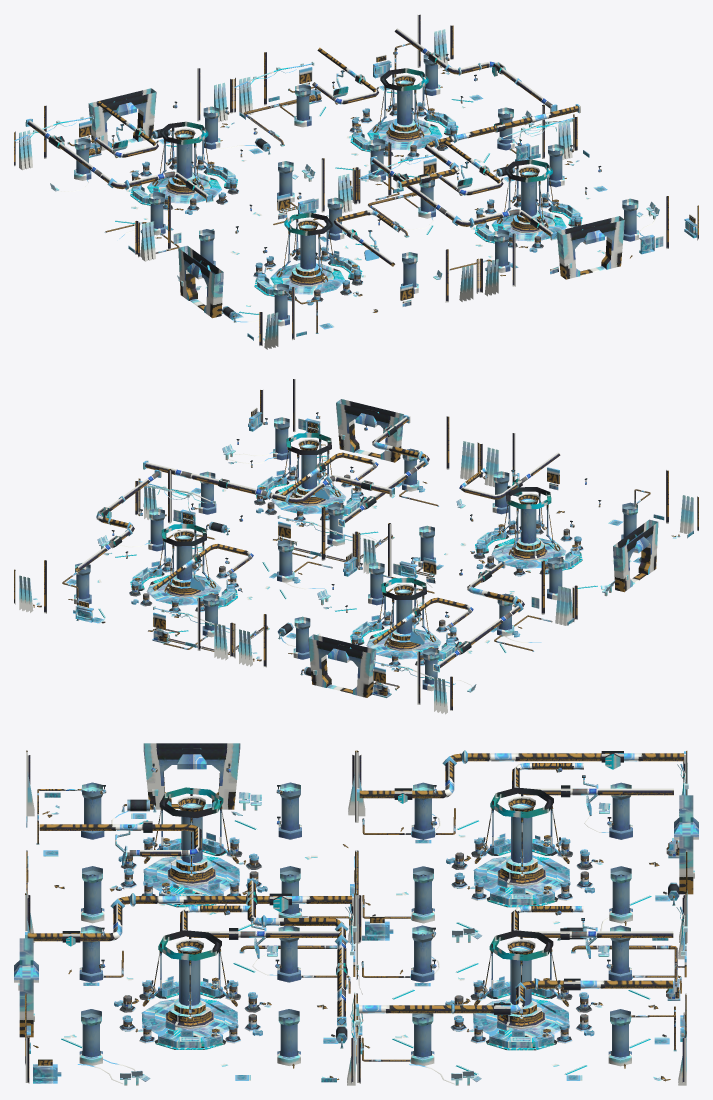
File: Combined_Mesh_root_scene__9_f65a131e__ZombiesII_laboratory_10_a_1fa57b93_c1f257_part001.obj
3 renders of one model, top to bottom at view 1: azimuth 30°, elevation 25°; view 2: azimuth 150°, elevation 25°; view 3: azimuth 270°, elevation 25°, orthographic. The views are drawn at different scales.
Bounding box in the file's own units: 83.04 × 10.34 × 83.14.
Materials: 538 (538 with a texture image).
